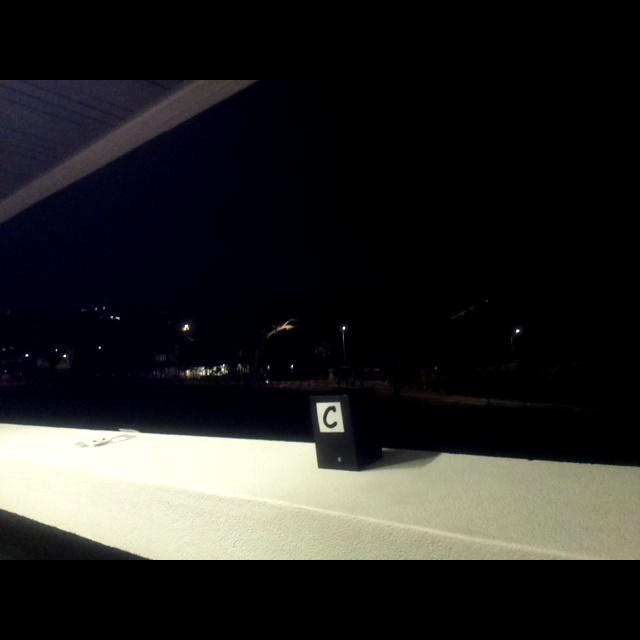C: (322, 405, 338, 430)
